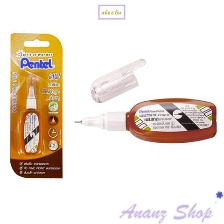book: (8, 31, 66, 183)
correction_fluid: (71, 97, 217, 145), (18, 74, 43, 156)
